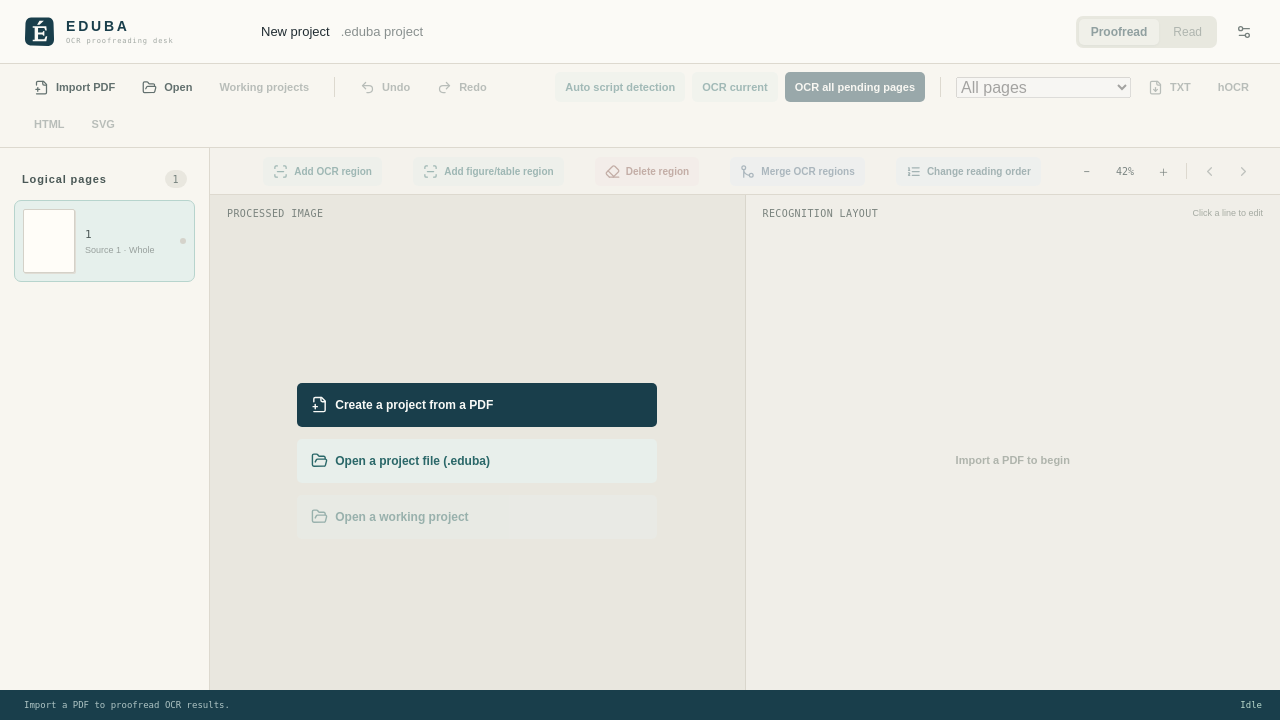
Test: saved project loading › restores stored magnifier choices when no project is reopened
This screenshot has width=1280, height=720.
Click the button named "Settings" at (1244, 32), box [1229, 17, 1258, 46]
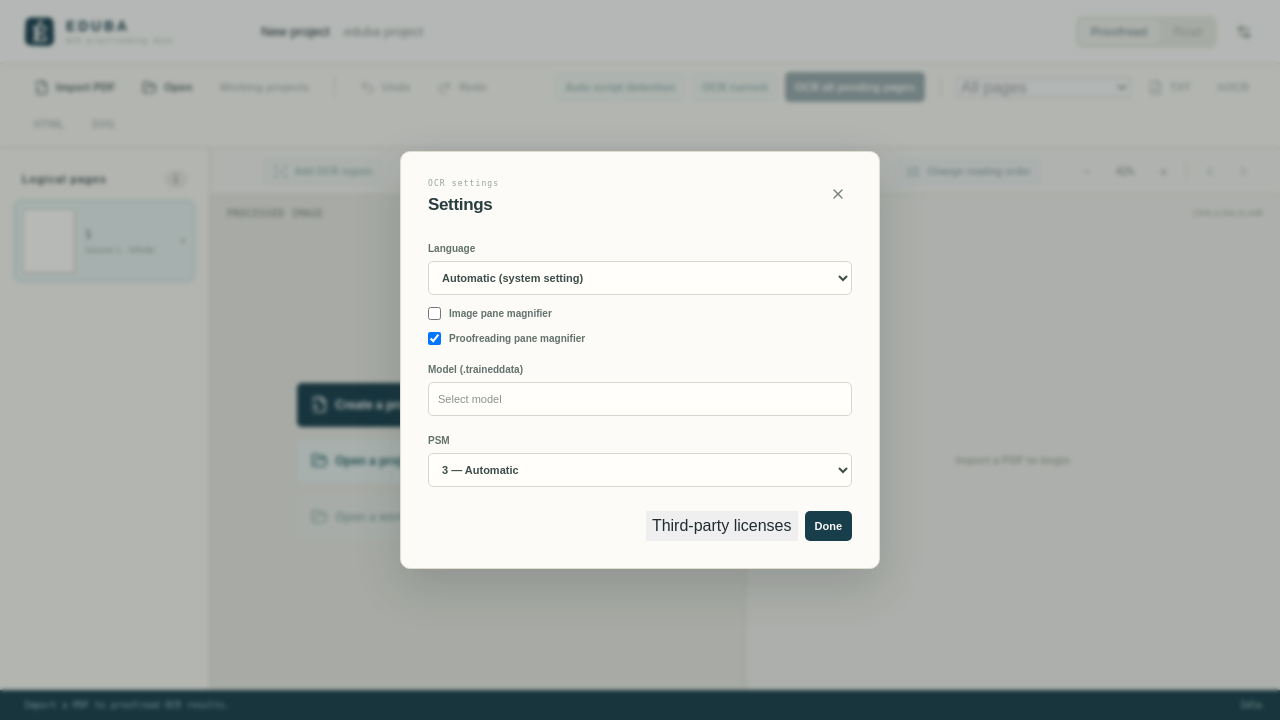
Now the checkbox labelled "Image pane magnifier" is not checked, box [428, 307, 441, 320]
Now the checkbox labelled "Proofreading pane magnifier" is checked, box [428, 332, 441, 345]
